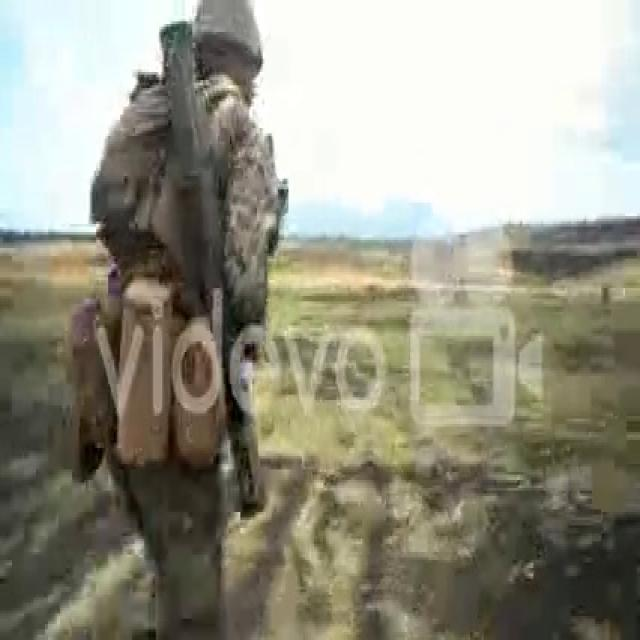bazooka: (158, 19, 272, 523)
